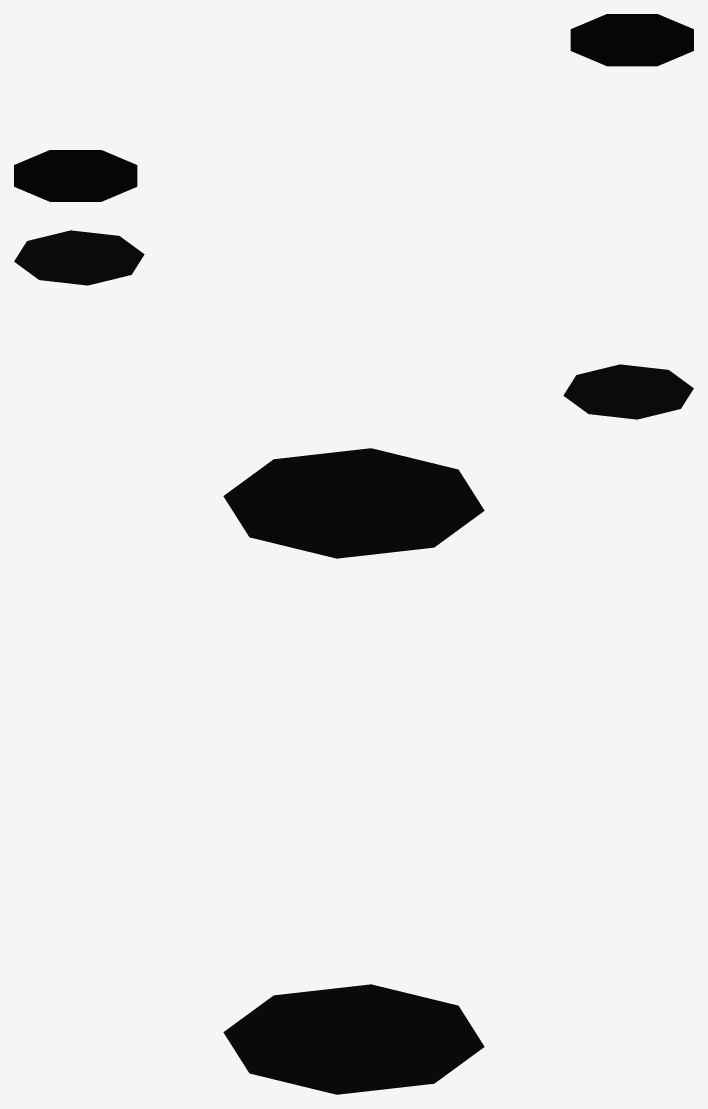
3 views of the same model, one above another, from view 1: azimuth 30°, elevation 25°; view 2: azimuth 150°, elevation 25°; view 3: azimuth 270°, elevation 25° (orthographic). The views are drawn at different scales.
Visible parts, largest first — view 1: Joint_0_Object_1, Joint_0_Object_0; view 2: Joint_0_Object_0, Joint_0_Object_1; view 3: Joint_0_Object_0, Joint_0_Object_1.
Boxes of the visible parts, x1,y1,x2,y2 form: Joint_0_Object_1: (570,14,693,66); Joint_0_Object_0: (14,150,137,201); Joint_0_Object_0: (563,364,693,419); Joint_0_Object_1: (14,230,144,285); Joint_0_Object_0: (223,448,484,558); Joint_0_Object_1: (223,984,484,1094).
Size of the model in its own units: 1582 by 0.7565 by 270.
1 material, 1 textured.
